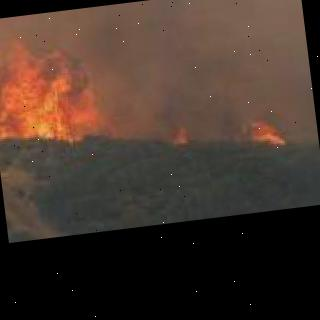fire: (0, 6, 115, 155), (240, 112, 290, 152), (168, 122, 190, 146)
